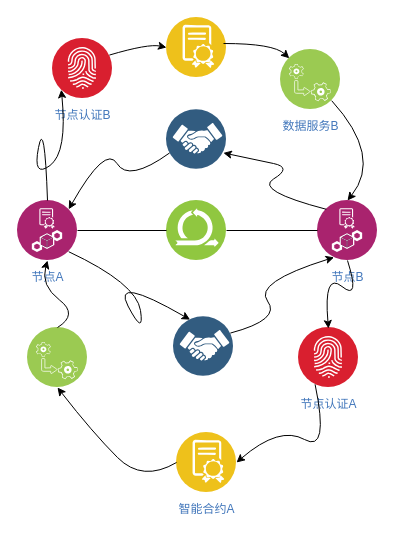
This 394x533 diagram has some shape labels left out. Here are the shapes that lost their labels. From the top down, the centre of each, then its label:
pixel 196 230: 节点通讯
pixel 57 357: 数据服务A
pixel 203 346: 交易完成
